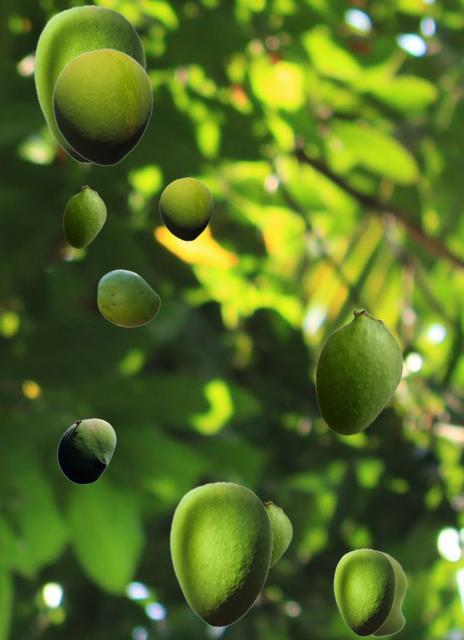green_mango: (33, 4, 145, 162), (169, 481, 272, 626), (52, 48, 152, 165), (315, 308, 402, 434), (333, 548, 395, 635), (57, 418, 115, 483), (97, 269, 159, 326), (159, 177, 212, 240), (371, 550, 406, 637), (63, 185, 105, 247), (264, 501, 291, 568)
